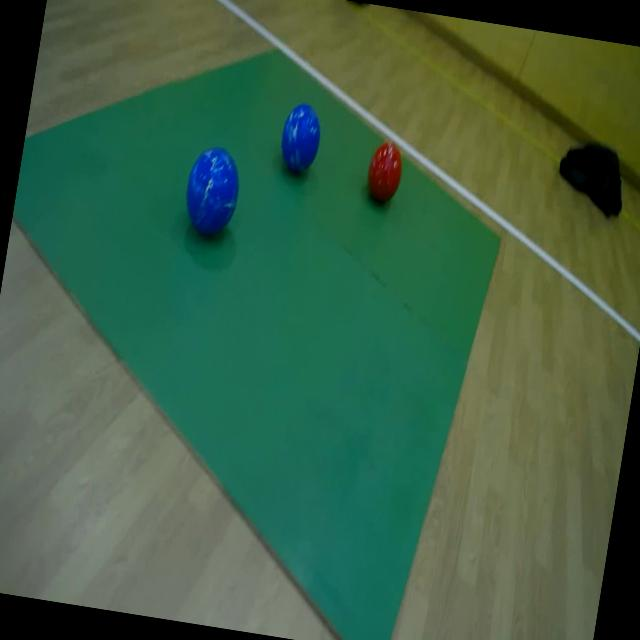blue_ball: (180, 140, 247, 240), (274, 100, 327, 182)
red_ball: (361, 138, 409, 210)
